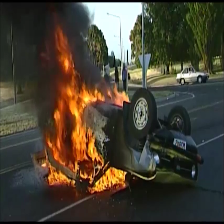fire_h: (40, 16, 109, 184), (41, 146, 74, 184), (89, 167, 127, 192), (107, 82, 129, 107)
